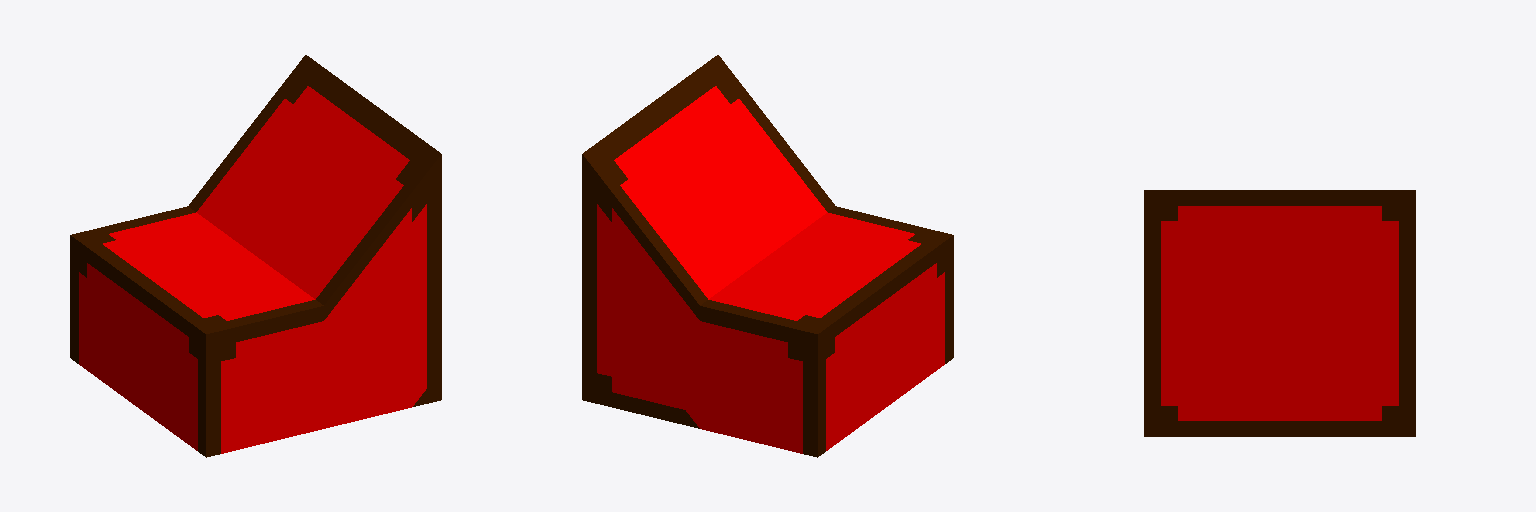
3 views of the same model, side by side, from view 1: azimuth 30°, elevation 25°; view 2: azimuth 150°, elevation 25°; view 3: azimuth 270°, elevation 25° (orthographic).
Visible parts, largest first — view 1: 7_red; view 2: 7_red; view 3: 7_red.
Part boxes in pixels (x1,y1,x2,y2): 7_red: (70,55,441,457); 7_red: (582,55,953,457); 7_red: (1144,190,1415,436).
Size of the model in its own units: 1 by 1 by 1.
Materials: 1 (1 with a texture image).